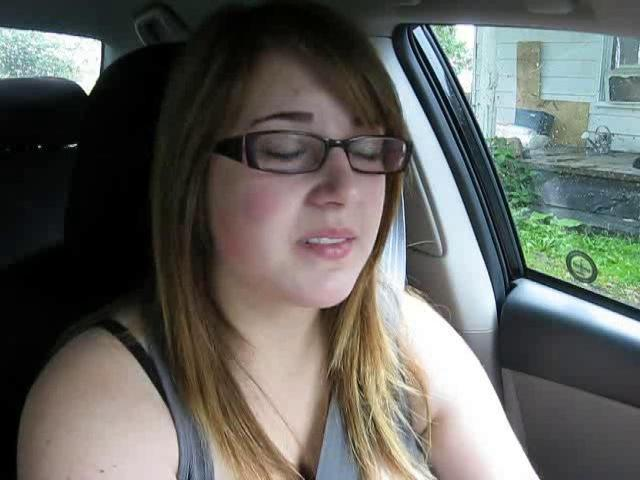eye_closed: (254, 139, 313, 171), (345, 140, 389, 174)
face: (207, 91, 392, 310)
